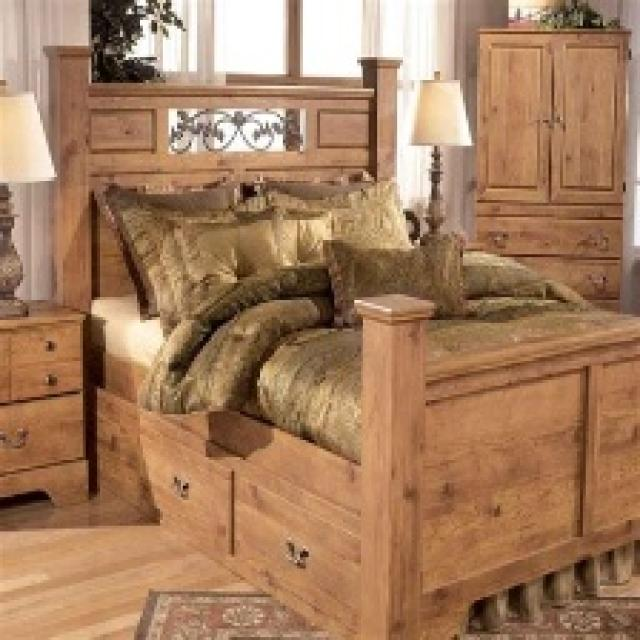Bed: (40, 43, 637, 637)
